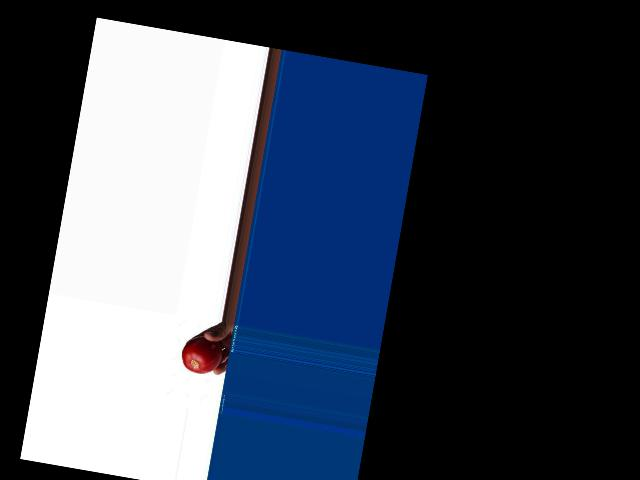tomato: (179, 333, 225, 377)
